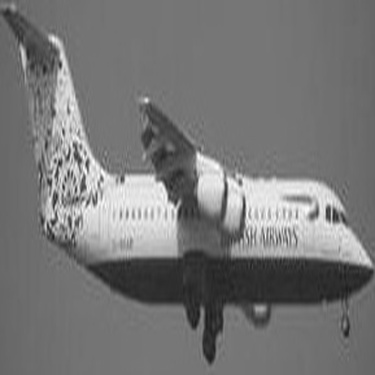airplane: (8, 9, 357, 330)
